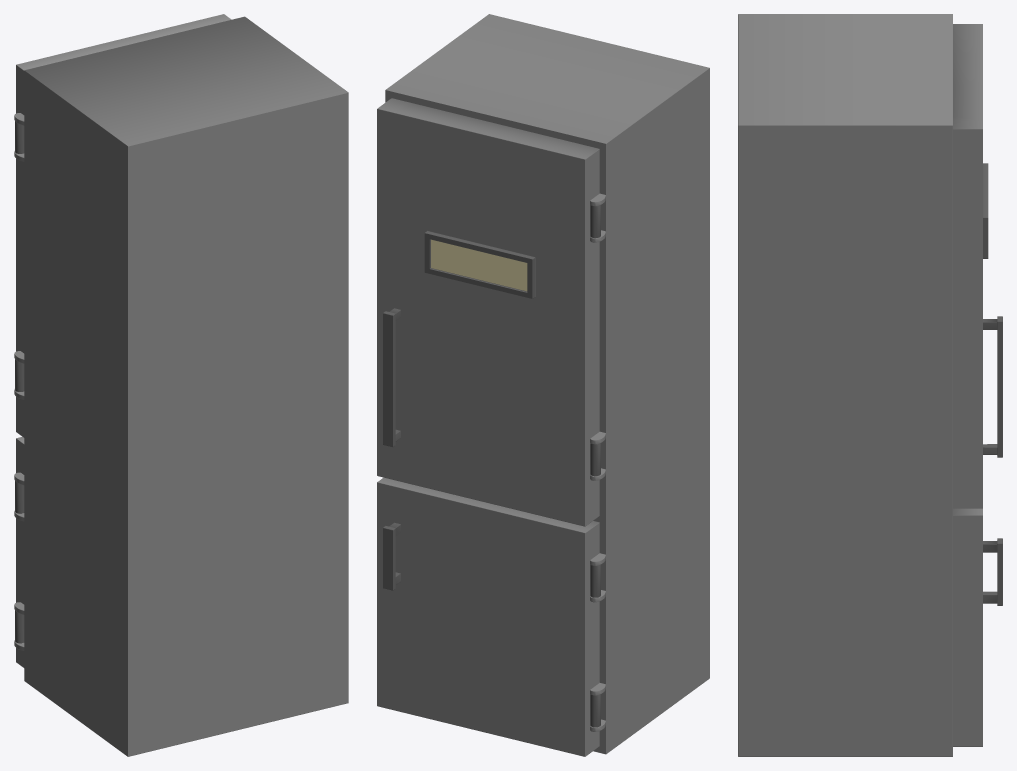
File: Refrigerador.fbx
3 views of the same model, side by side, from view 1: azimuth 30°, elevation 25°; view 2: azimuth 150°, elevation 25°; view 3: azimuth 270°, elevation 25° (orthographic). The views are drawn at different scales.
Visible parts, largest first — view 1: Fridge_body, Fridge_doors; view 2: Fridge_doors, Fridge_body; view 3: Fridge_body, Fridge_doors.
Boxes of the visible parts, x1=… form: Fridge_body: x1=14, y1=16, x2=348, y2=756; Fridge_doors: x1=15, y1=14, x2=231, y2=667; Fridge_doors: x1=377, y1=98, x2=600, y2=756; Fridge_body: x1=385, y1=14, x2=709, y2=754; Fridge_body: x1=738, y1=14, x2=952, y2=756; Fridge_doors: x1=953, y1=24, x2=1002, y2=746.
Bounding box in the file's own units: 70.73 × 185 × 70.26.
1 material, 1 textured.
